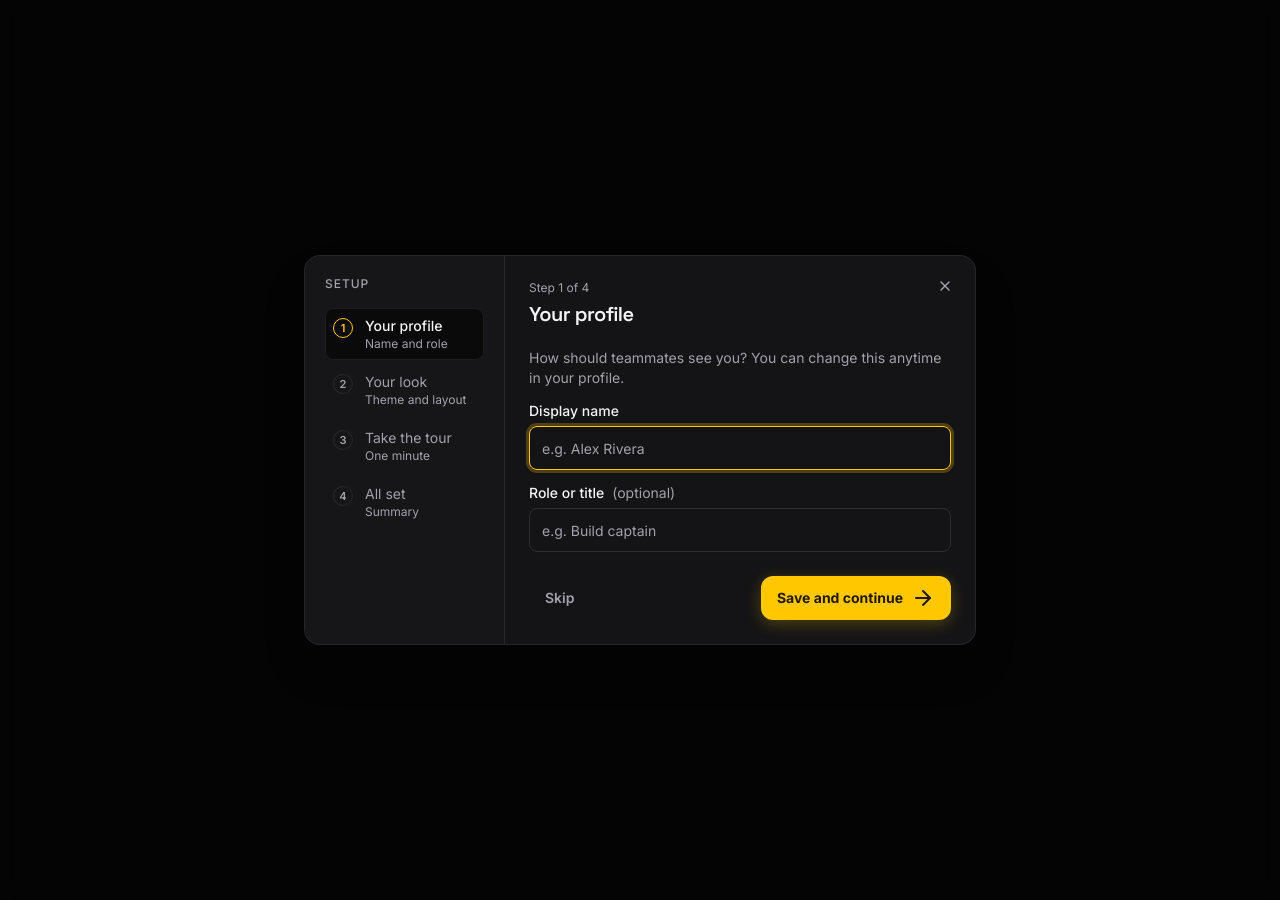
Scenario: Modern setup › a blank name is rejected with an announced error
Click the button "Save and continue" at (856, 598), box x1=761 y1=576 x2=951 y2=620
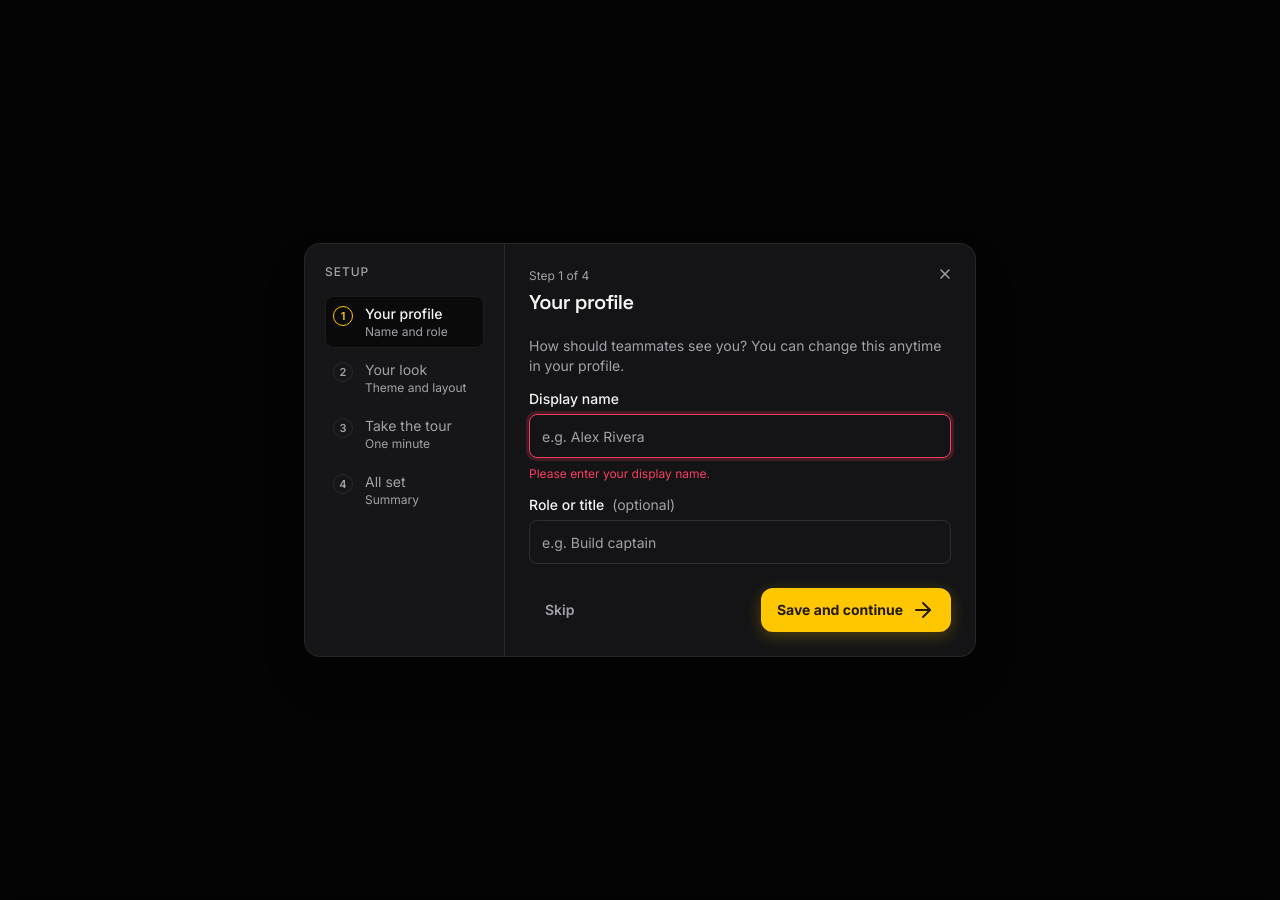
Expected: the message "Please enter your display name." is shown, x1=529 y1=466 x2=710 y2=481
